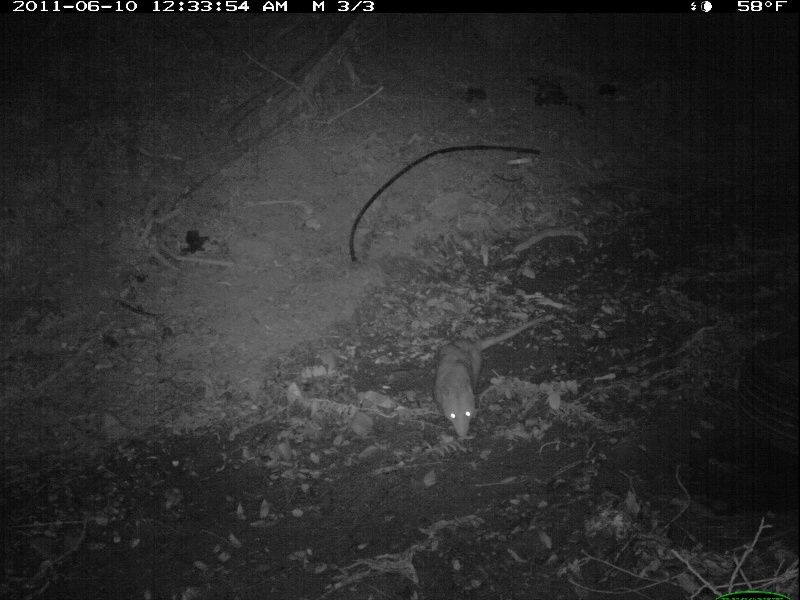opossum: (430, 313, 557, 442)
